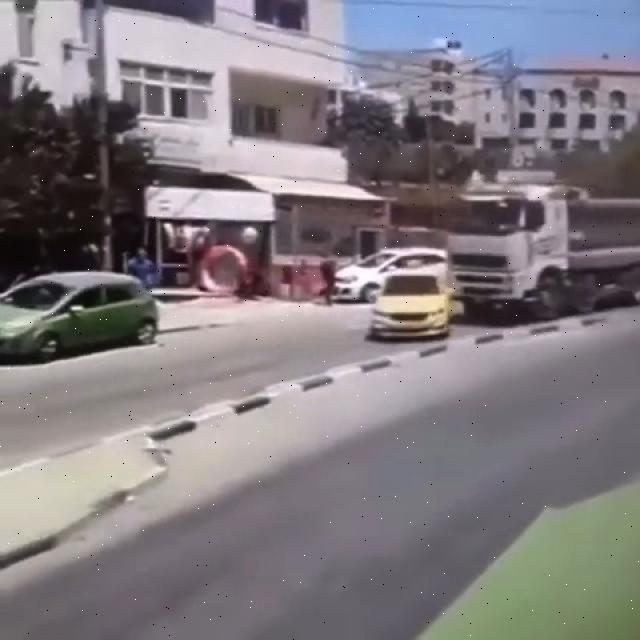accident: (369, 177, 640, 339)
